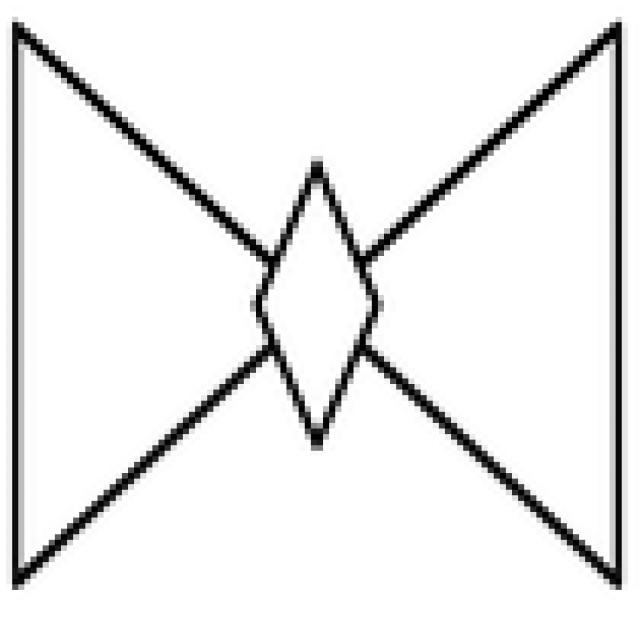Plug Valve: (8, 17, 622, 587)
